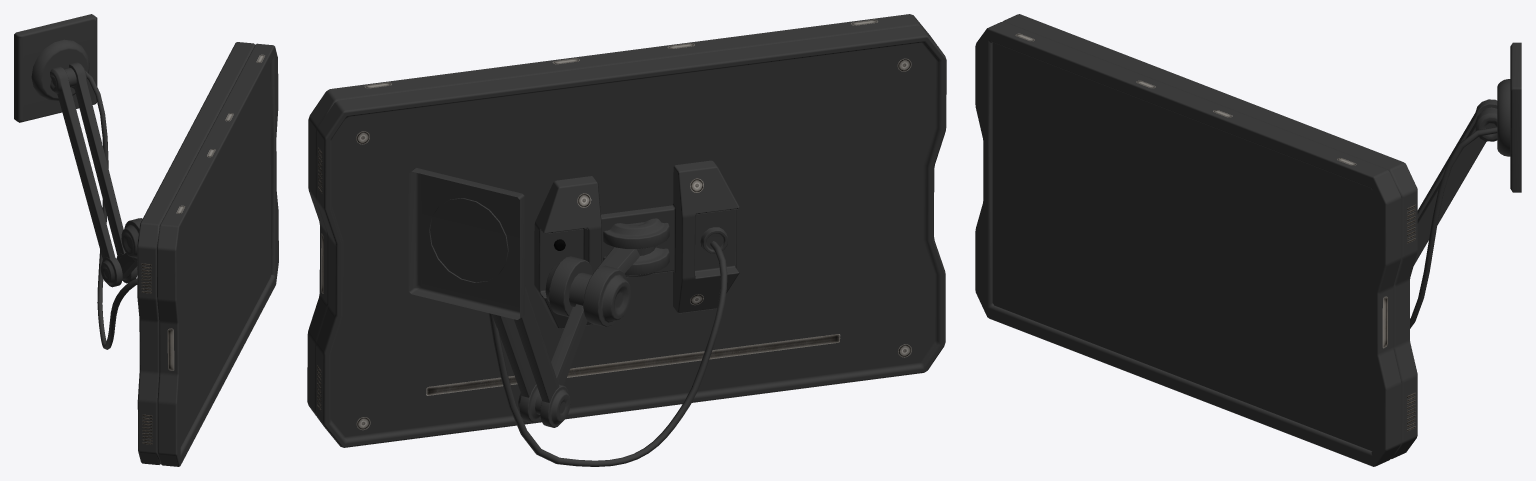
Rendered from SM_TV_Screen_02.FBX.
The picture shows the model from 3 angles, left to right: view 1: azimuth 30°, elevation 25°; view 2: azimuth 150°, elevation 25°; view 3: azimuth 270°, elevation 25°; orthographic projection. The views are drawn at different scales.
Visible parts, largest first — view 1: SM_TV_Screen_02_LOD0; view 2: SM_TV_Screen_02_LOD0; view 3: SM_TV_Screen_02_LOD0.
Part boxes in pixels (left/top/right/bottom): SM_TV_Screen_02_LOD0: left=14, top=14, right=278, bottom=466; SM_TV_Screen_02_LOD0: left=307, top=14, right=946, bottom=466; SM_TV_Screen_02_LOD0: left=975, top=14, right=1521, bottom=466.
Size of what is drawn, in the model's own units: 68.69 by 90.66 by 56.87.
